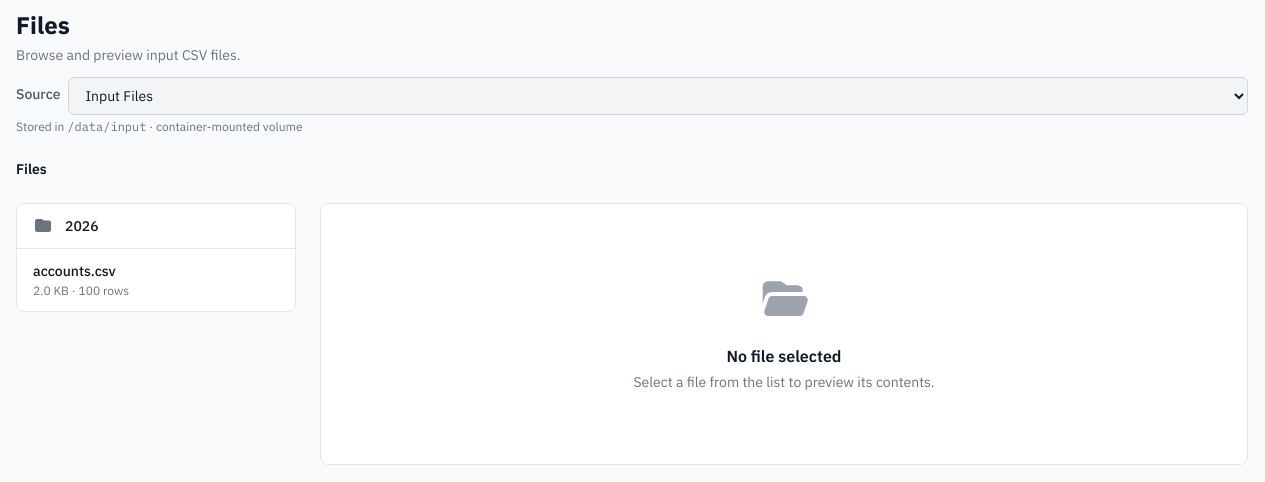
Test: FilesPage › clicking a directory entry clears the selected file
Click the text "accounts.csv" at (74,271), box x1=33 y1=262 x2=116 y2=280
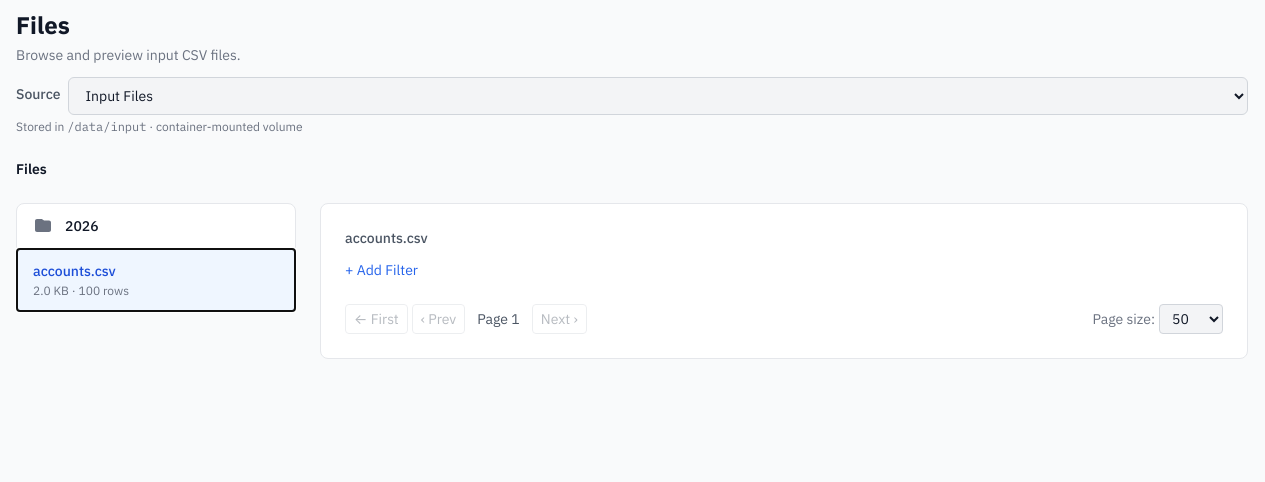
Check: the heading "No file selected" is gone
Click the button "2026" at (82,226), box x1=17 y1=204 x2=295 y2=248
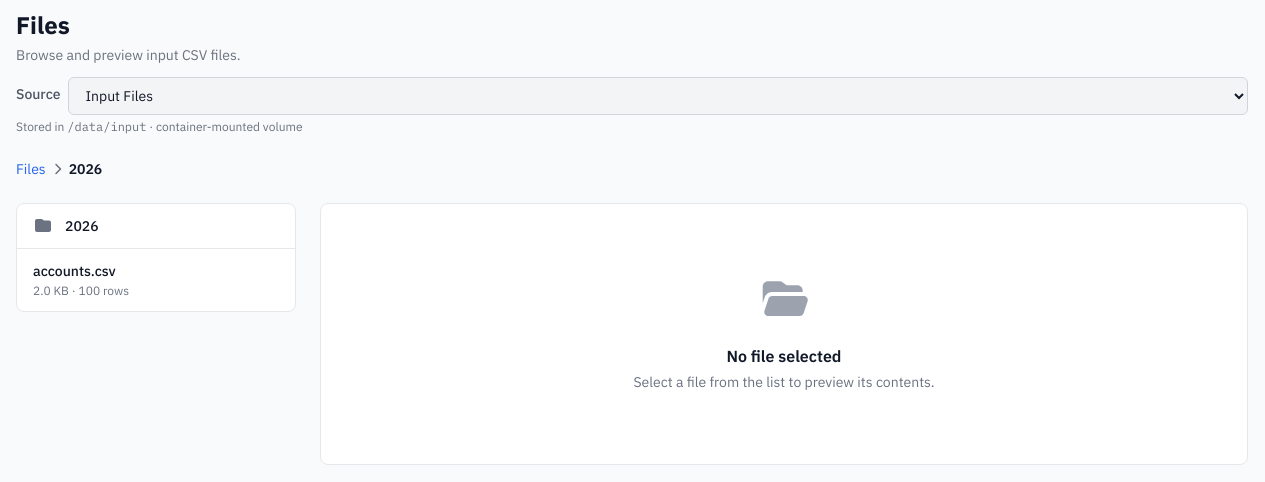
Check: the heading "No file selected" is shown, box x1=727 y1=344 x2=842 y2=368
